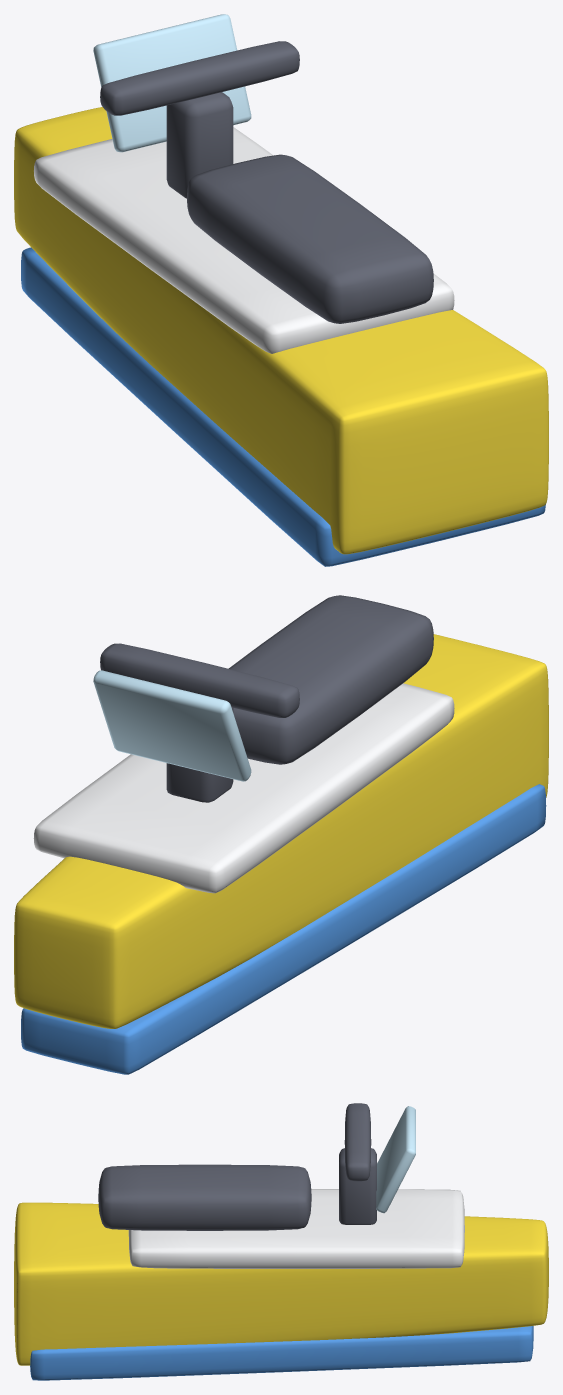
Rendered from jetski.fbx.
The picture shows the model from 3 angles, top to bottom: view 1: azimuth 30°, elevation 25°; view 2: azimuth 150°, elevation 25°; view 3: azimuth 270°, elevation 25°; orthographic projection. The views are drawn at different scales.
Visible parts, largest first — view 1: JetBody, JetSeatAll, JetWhite, JetTrim, JetGlass; view 2: JetBody, JetWhite, JetSeatAll, JetTrim, JetGlass; view 3: JetBody, JetSeatAll, JetWhite, JetTrim, JetGlass.
Part boxes in pixels (x1,y1,x2,y2): JetBody: (14, 107, 548, 554); JetSeatAll: (100, 41, 433, 323); JetWhite: (34, 127, 454, 353); JetTrim: (21, 247, 545, 566); JetGlass: (93, 14, 251, 152); JetBody: (14, 634, 548, 1028); JetWhite: (33, 683, 454, 893); JetSeatAll: (100, 595, 433, 802); JetTrim: (21, 784, 546, 1074); JetGlass: (93, 670, 251, 781); JetBody: (14, 1202, 548, 1365); JetSeatAll: (98, 1103, 376, 1230); JetWhite: (128, 1189, 464, 1268); JetTrim: (30, 1326, 533, 1380); JetGlass: (376, 1106, 415, 1213).
Size of the model in its own units: 2.33 by 3.16 by 6.99.
